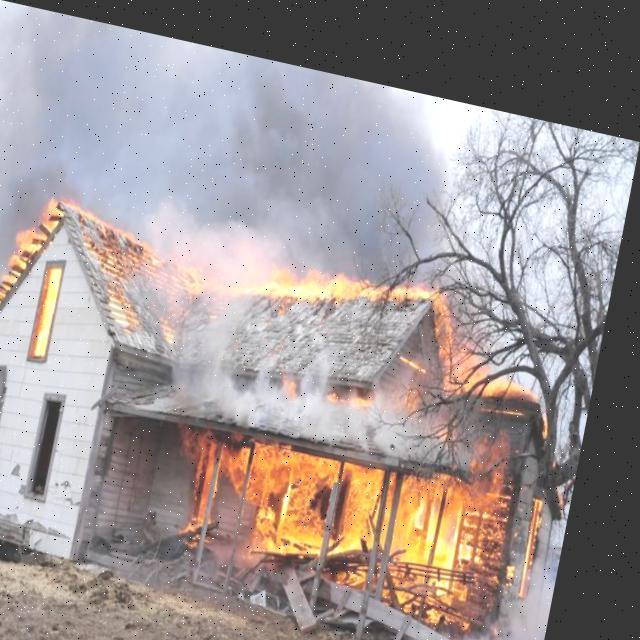Fire: (180, 408, 530, 610), (280, 238, 462, 308), (43, 255, 71, 356)
